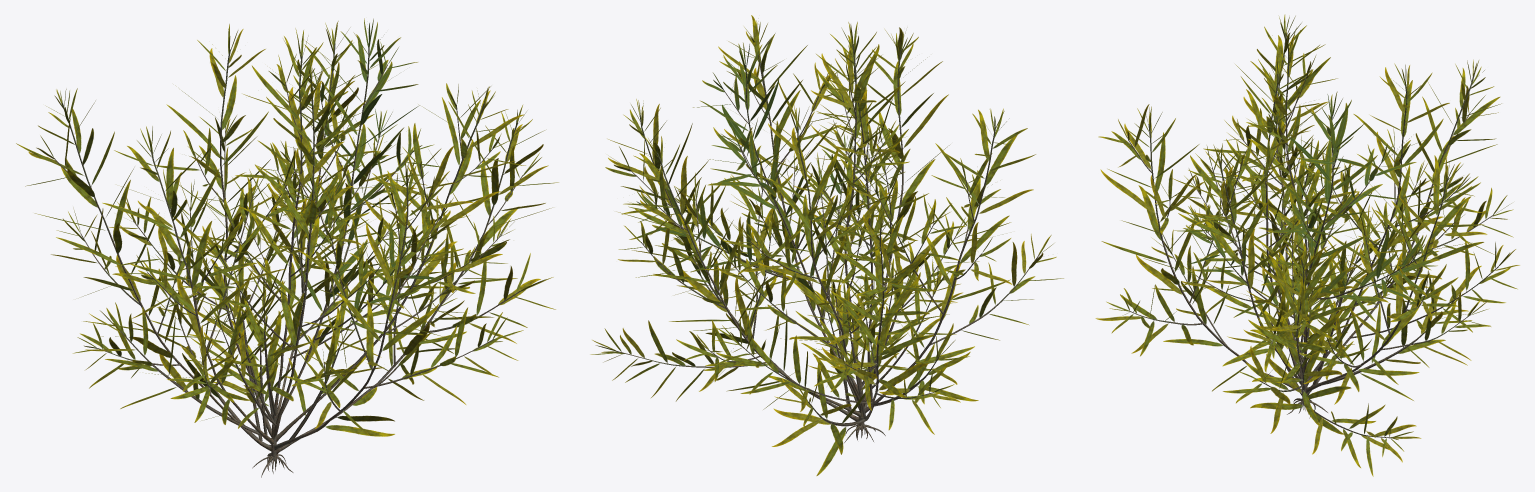
Rendered from realistic_hd_rosemary_willow_6399.glb.
3 views of the same model, side by side, from view 1: azimuth 30°, elevation 25°; view 2: azimuth 150°, elevation 25°; view 3: azimuth 270°, elevation 25° (orthographic). The views are drawn at different scales.
Visible parts, largest first — view 1: Salix_elaeagnos_HD; view 2: Salix_elaeagnos_HD; view 3: Salix_elaeagnos_HD.
Part boxes in pixels (x1=…): Salix_elaeagnos_HD: x1=16, y1=18, x2=558, y2=477; Salix_elaeagnos_HD: x1=590, y1=15, x2=1063, y2=475; Salix_elaeagnos_HD: x1=1095, y1=15, x2=1519, y2=476.
Size of the model in its own units: 0.5557 by 0.5134 by 0.5023.
5 materials, 5 textured.
